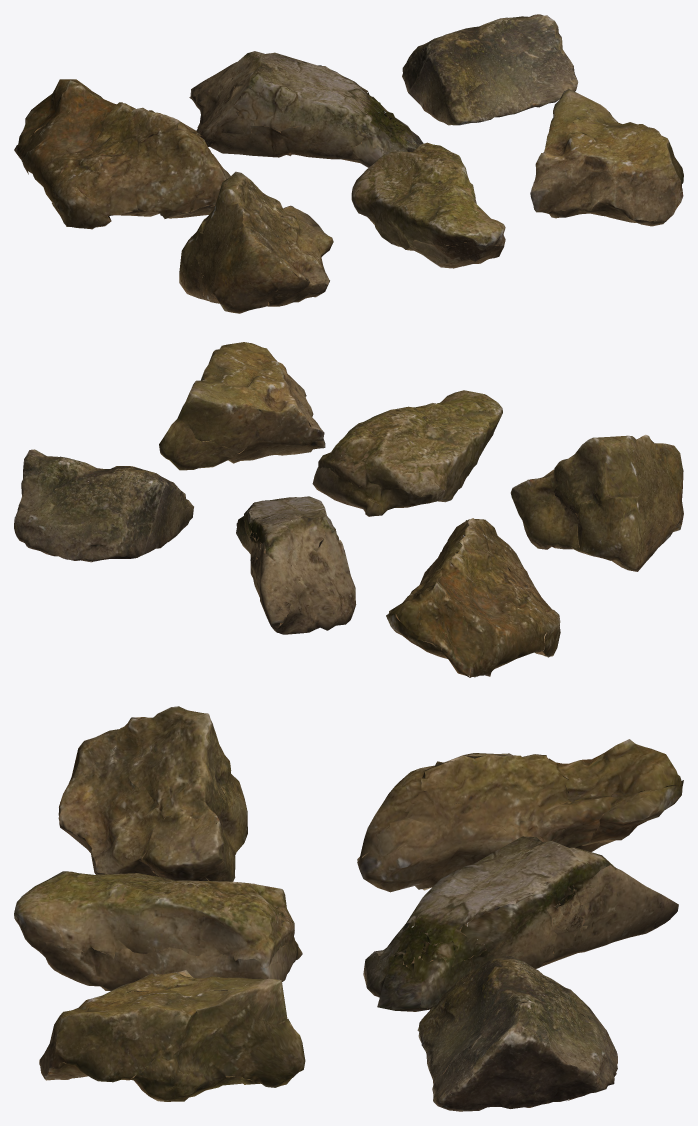
File: rocks-lod.glb
3 views of the same model, one above another, from view 1: azimuth 30°, elevation 25°; view 2: azimuth 150°, elevation 25°; view 3: azimuth 270°, elevation 25° (orthographic). The views are drawn at different scales.
Parts seen in each view (by area): view 1: rock_moss_set_01_rock01, rock_moss_set_01_rock02, rock_moss_set_01_rock06, rock_moss_set_01_rock04, rock_moss_set_01_rock03, rock_moss_set_01_rock05; view 2: rock_moss_set_01_rock04, rock_moss_set_01_rock01, rock_moss_set_01_rock05, rock_moss_set_01_rock03, rock_moss_set_01_rock06, rock_moss_set_01_rock02; view 3: rock_moss_set_01_rock01, rock_moss_set_01_rock02, rock_moss_set_01_rock05, rock_moss_set_01_rock04, rock_moss_set_01_rock06, rock_moss_set_01_rock03.
Part boxes in pixels (left/top/right/bottom): rock_moss_set_01_rock01: left=14, top=79, right=230, bottom=229; rock_moss_set_01_rock02: left=189, top=51, right=423, bottom=167; rock_moss_set_01_rock06: left=530, top=89, right=683, bottom=226; rock_moss_set_01_rock04: left=179, top=171, right=333, bottom=313; rock_moss_set_01_rock03: left=402, top=14, right=578, bottom=125; rock_moss_set_01_rock05: left=351, top=142, right=505, bottom=268; rock_moss_set_01_rock04: left=510, top=434, right=683, bottom=571; rock_moss_set_01_rock01: left=386, top=518, right=560, bottom=677; rock_moss_set_01_rock05: left=312, top=390, right=502, bottom=516; rock_moss_set_01_rock03: left=14, top=449, right=193, bottom=562; rock_moss_set_01_rock06: left=159, top=342, right=325, bottom=470; rock_moss_set_01_rock02: left=236, top=496, right=356, bottom=634; rock_moss_set_01_rock01: left=357, top=739, right=683, bottom=892; rock_moss_set_01_rock02: left=363, top=836, right=678, bottom=1011; rock_moss_set_01_rock05: left=14, top=871, right=302, bottom=990; rock_moss_set_01_rock04: left=58, top=706, right=247, bottom=881; rock_moss_set_01_rock06: left=39, top=970, right=305, bottom=1101; rock_moss_set_01_rock03: left=417, top=955, right=617, bottom=1111.
Bounding box in the file's own units: 7.99 × 1.77 × 6.95.
1 material, 1 textured.
